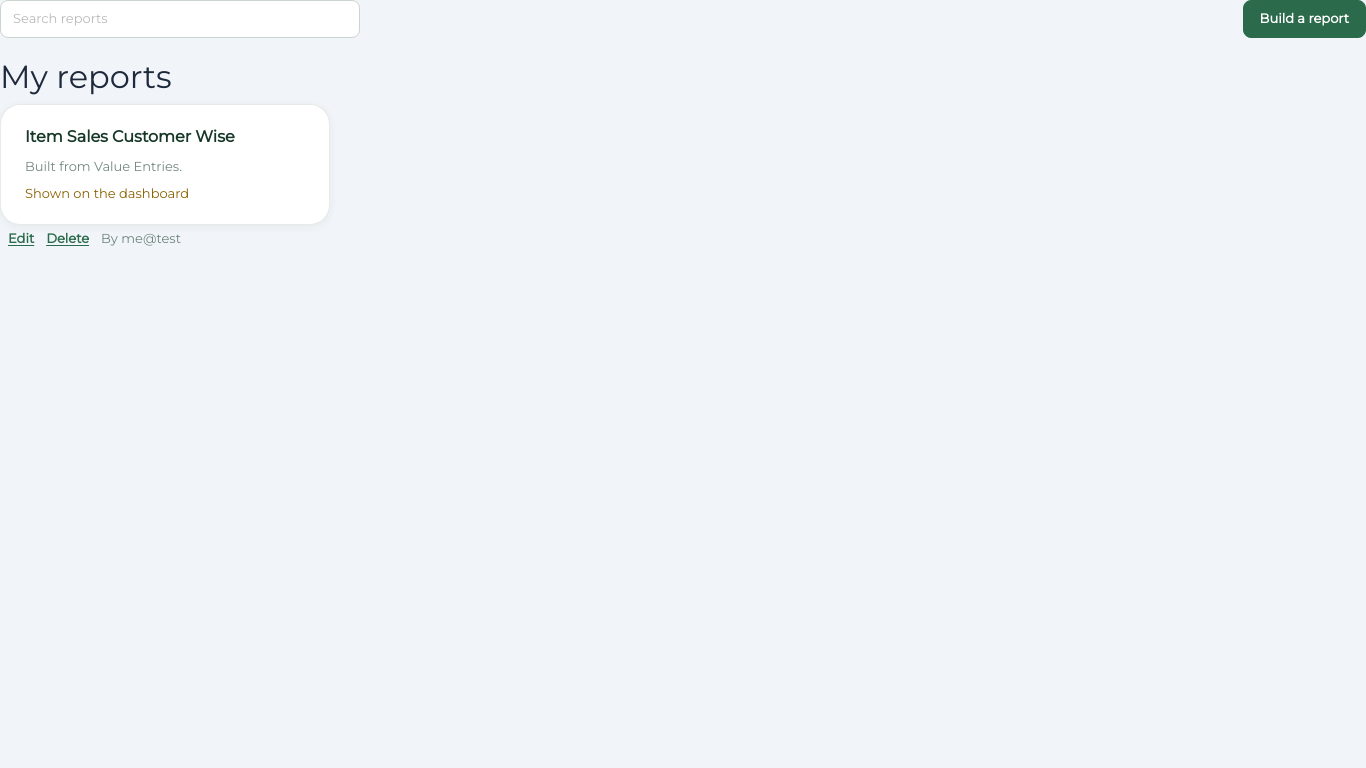
a built report is only deleted after its name has been typed
Click the button "Delete".
click(68, 239)  # box [46,229,89,248]
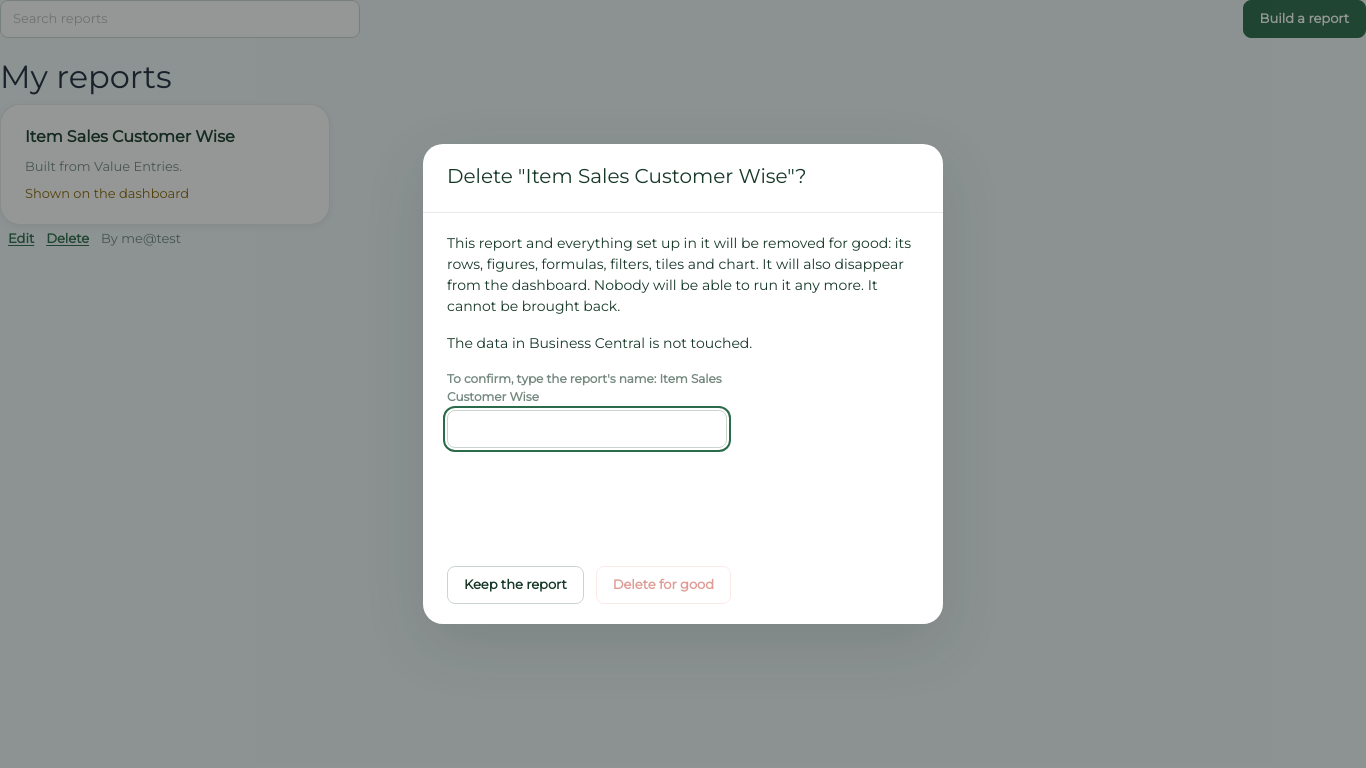
Expected: the text "removed for good" shows "It will also disappear from the dashboard.", [447,255,904,294]
Expected: the text "The data in Business Central is not touched." is shown, [447,334,752,352]
Expected: the button "Delete for good" is disabled, [596,566,731,604]
Type "Item Sales" into the field named "Type the report name to confirm".
click(587, 429); type("Item Sales")  # box [447,410,727,448]
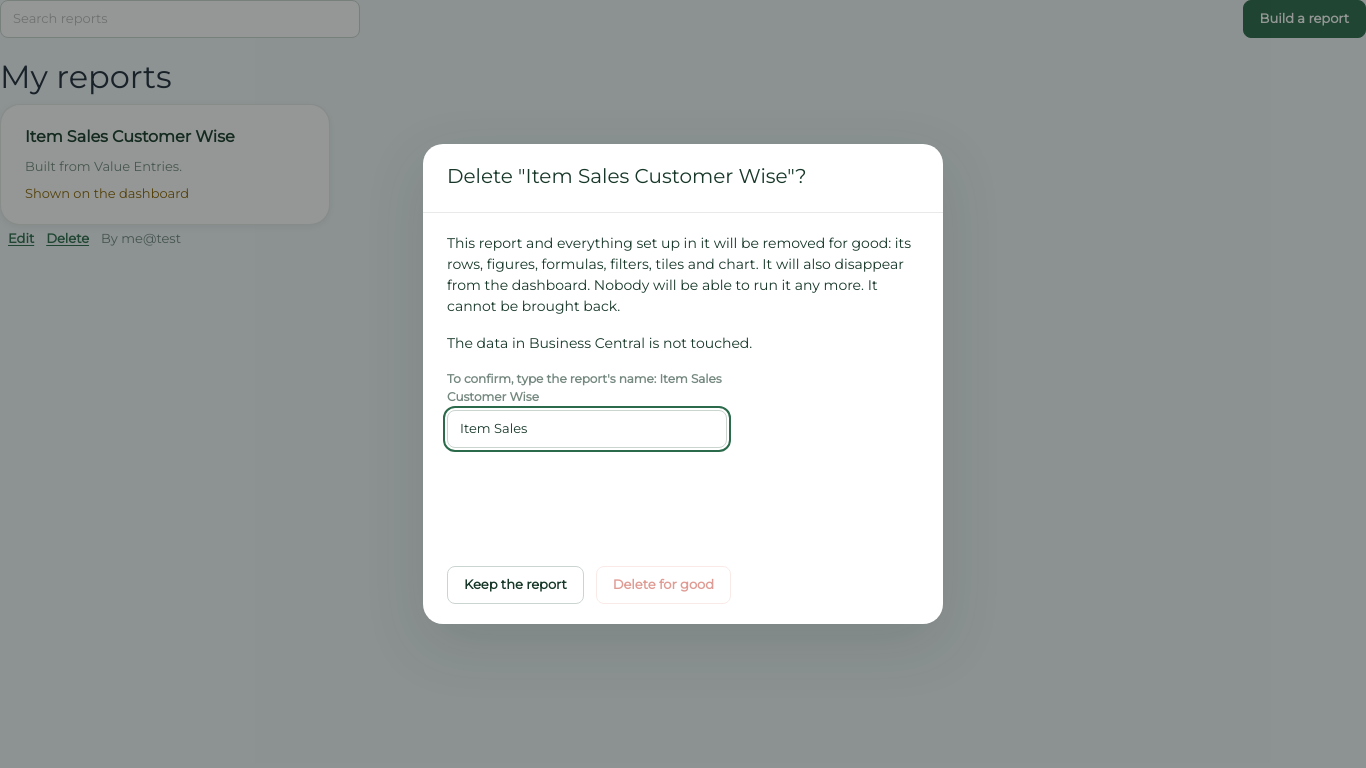
Expected: the button "Delete for good" is disabled, [596,566,731,604]
Submit the dialog, box [423,144,943,624]
// Backing out keeps the report.
Click the button "Keep the report".
click(515, 585)  # box [447,566,584,604]
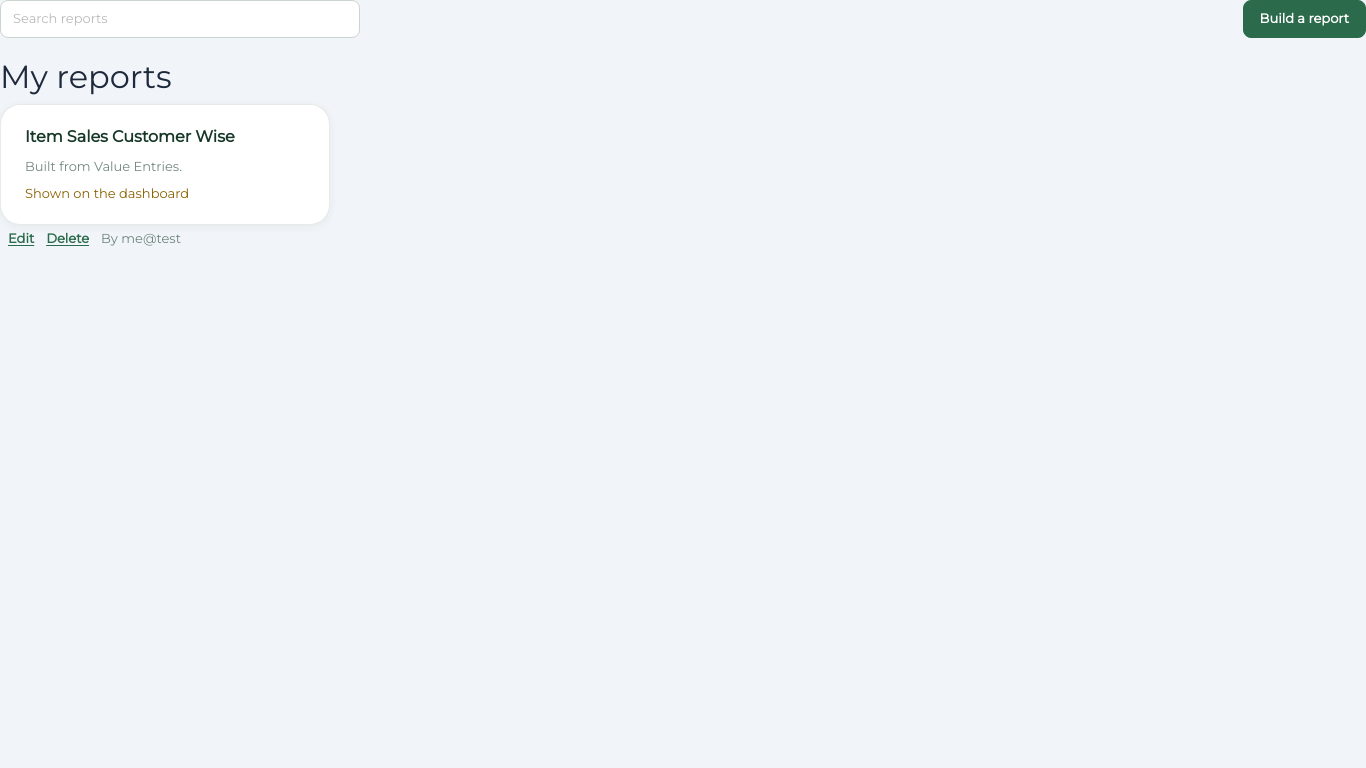
Expected: the dialog is gone
// The full name, in any capitals, switches it on.
Click the button "Delete".
click(68, 239)  # box [46,229,89,248]
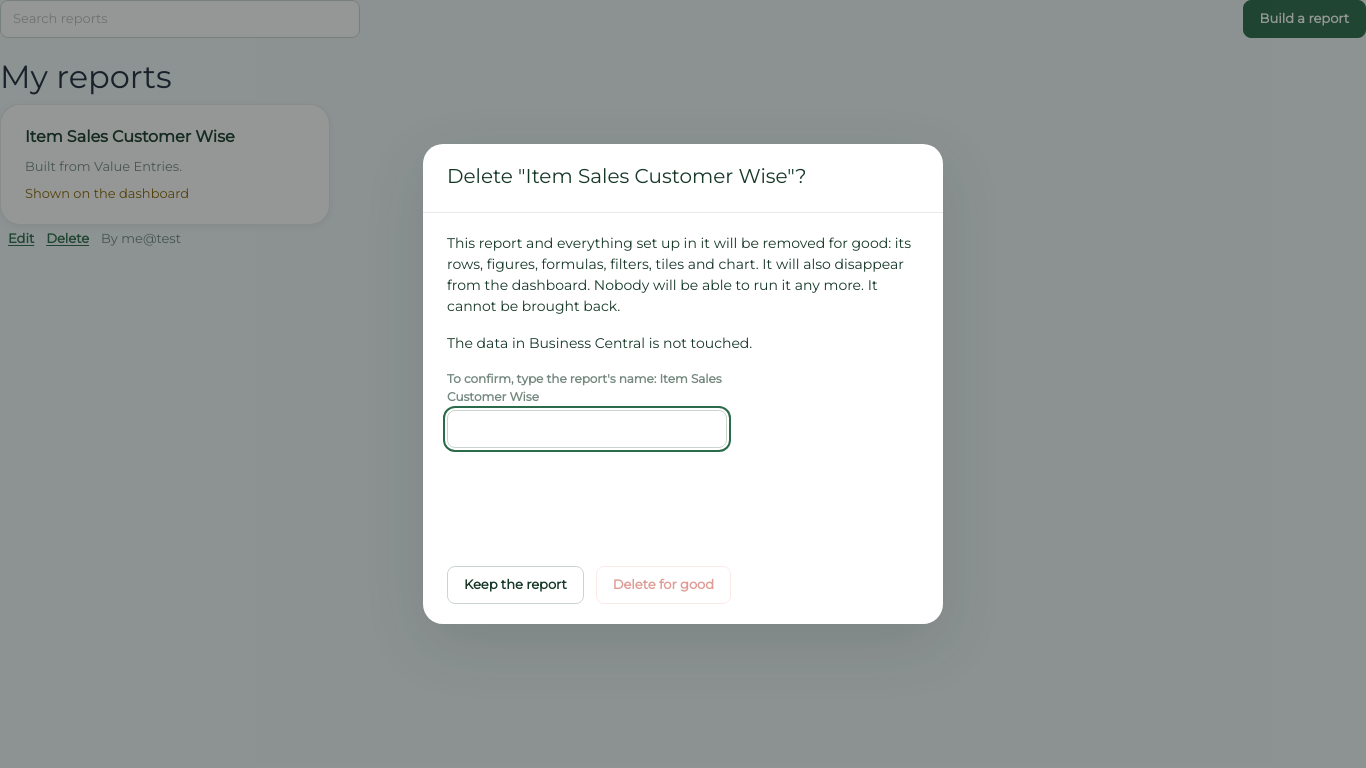
Type "item sales customer wise" into the field named "Type the report name to confirm".
click(587, 429); type("item sales customer wise")  # box [447,410,727,448]
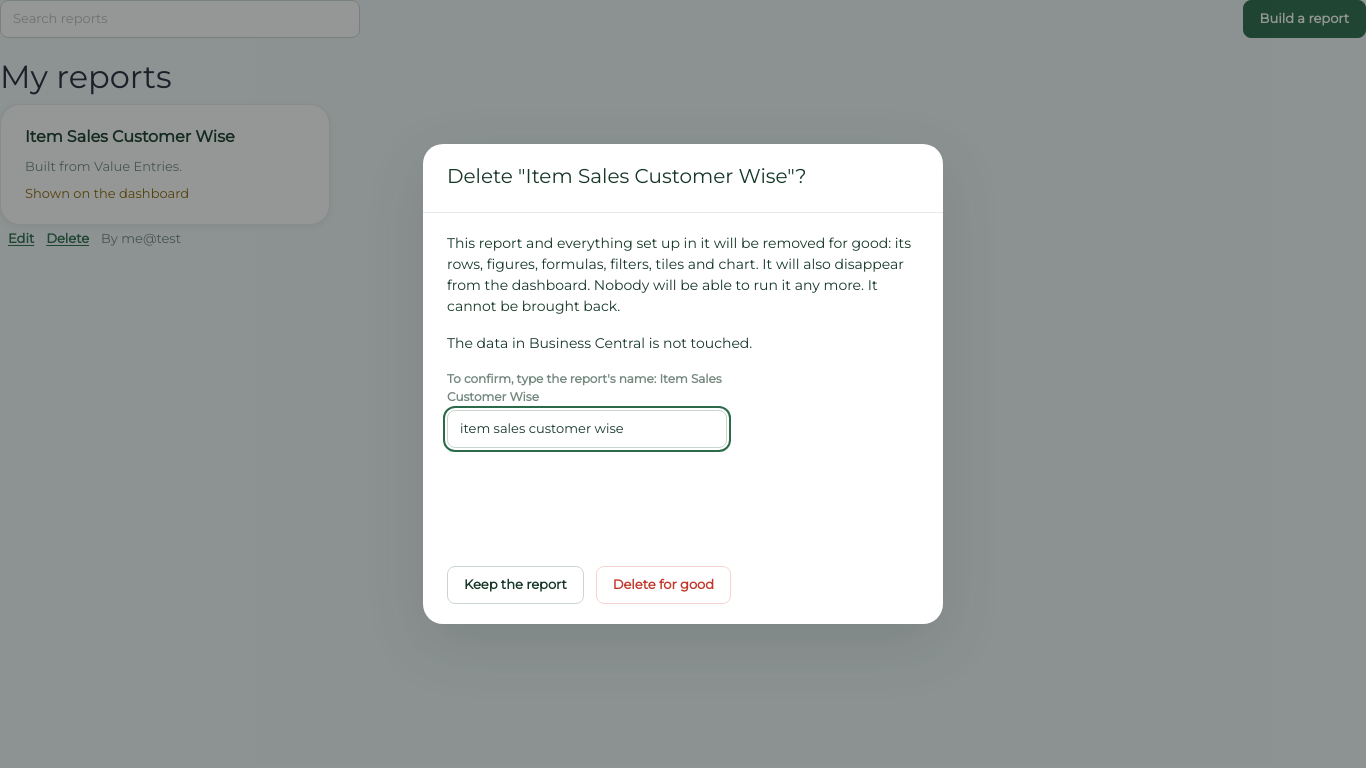
Click the button "Delete for good".
click(663, 585)  # box [596,566,731,604]
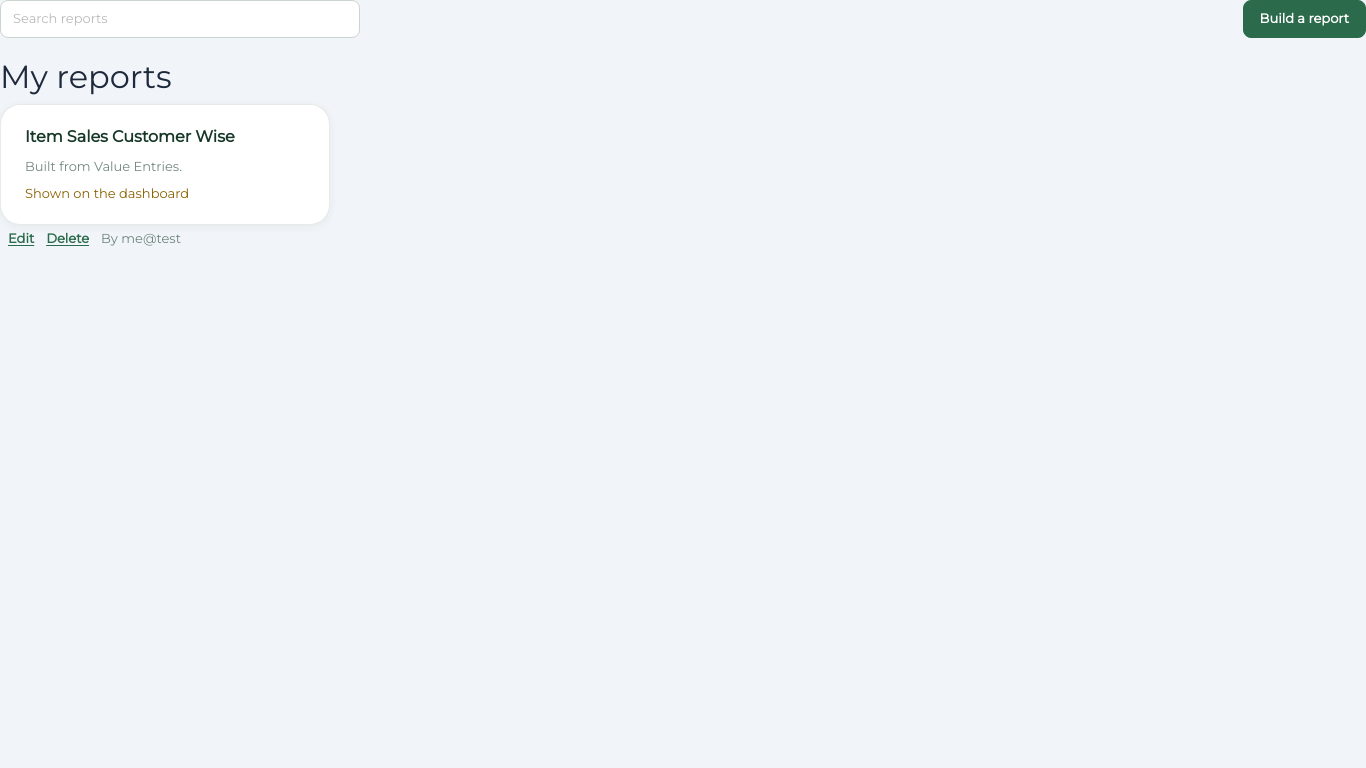
Expected: the dialog is gone
